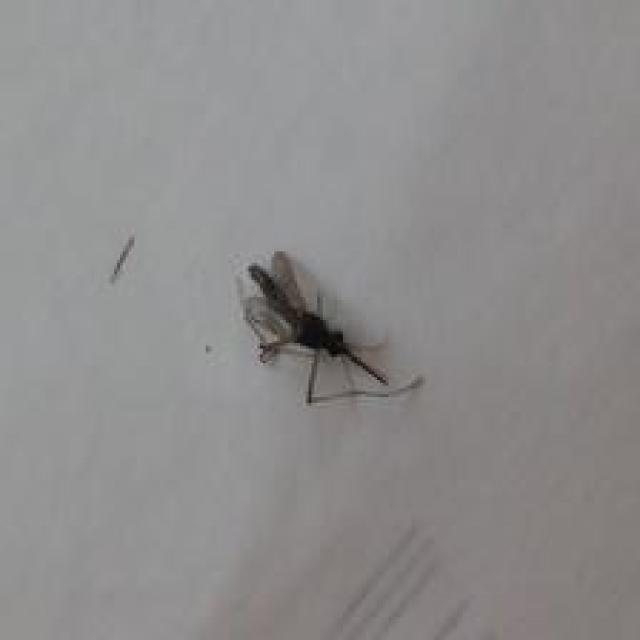Aedes albopictus: (236, 248, 424, 406)
